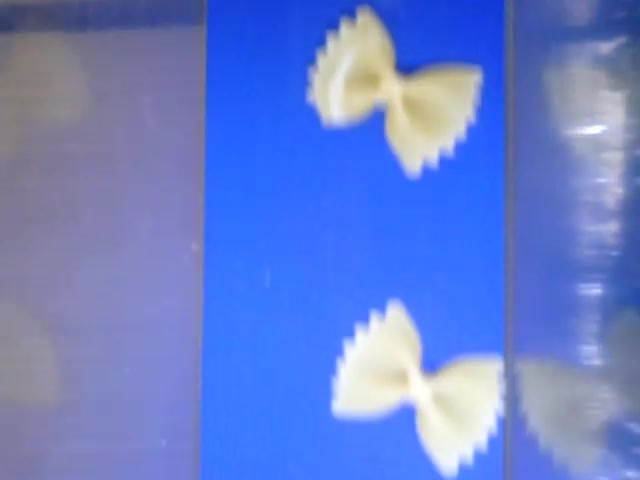farfalle: (329, 297, 505, 480), (306, 1, 480, 178)
